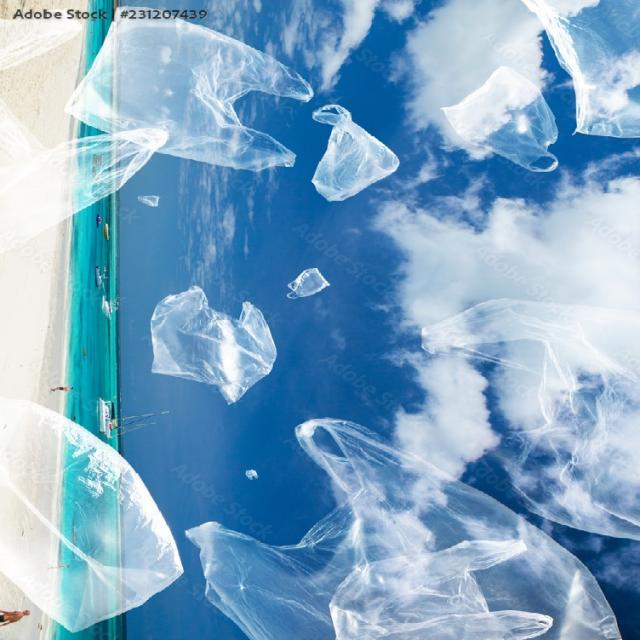Single-layer Plastic: (186, 419, 620, 640), (422, 299, 640, 539), (0, 398, 182, 631), (66, 8, 312, 171), (0, 101, 169, 252), (330, 540, 552, 640), (523, 0, 640, 138), (151, 286, 276, 403), (442, 68, 558, 172), (312, 105, 399, 201), (288, 268, 330, 298)
